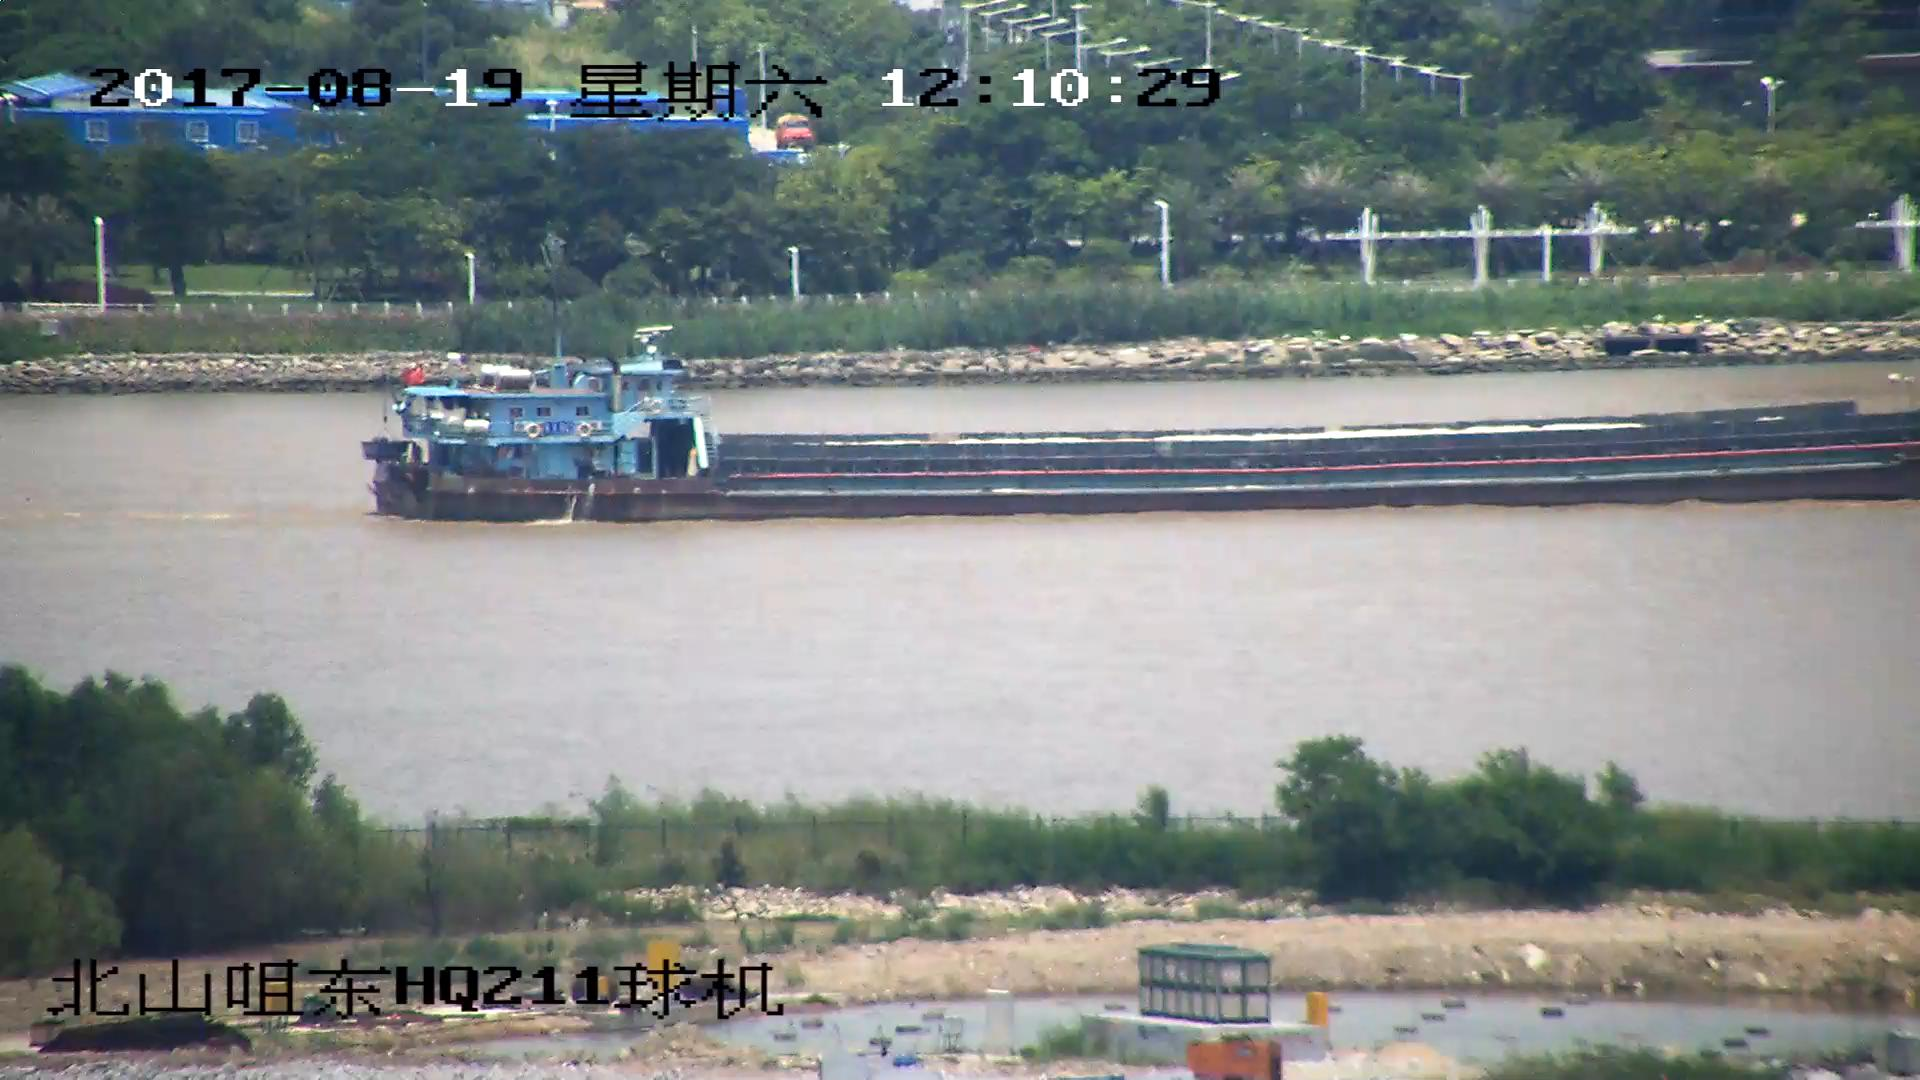bulk cargo carrier: (356, 322, 1920, 520)
